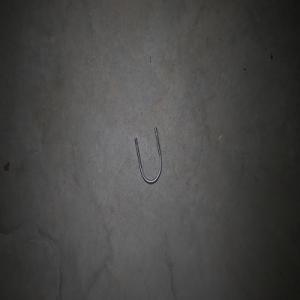ClampPart: (134, 126, 162, 184)
